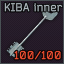KIBA Arms International outlet inner grate door key: (0, 0, 64, 64)
